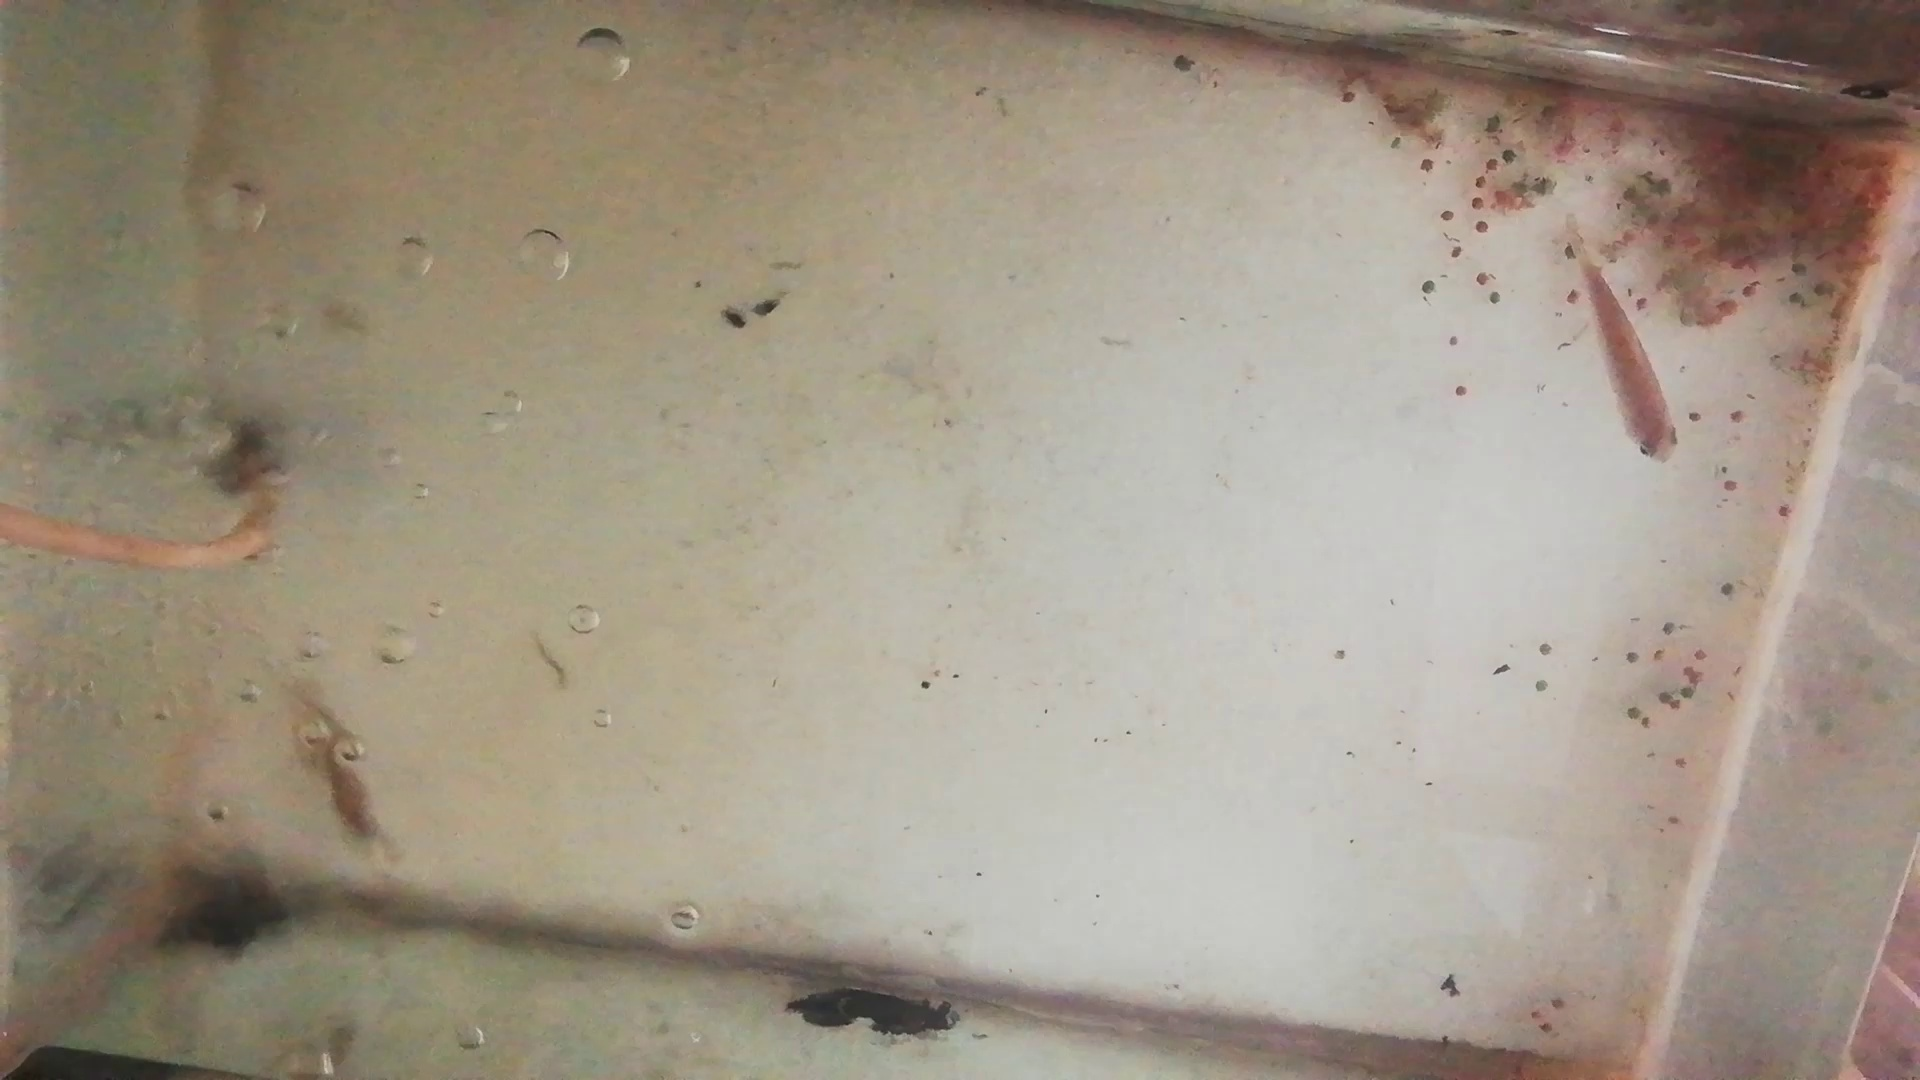fish: (1581, 255, 1680, 460), (281, 669, 384, 855)
